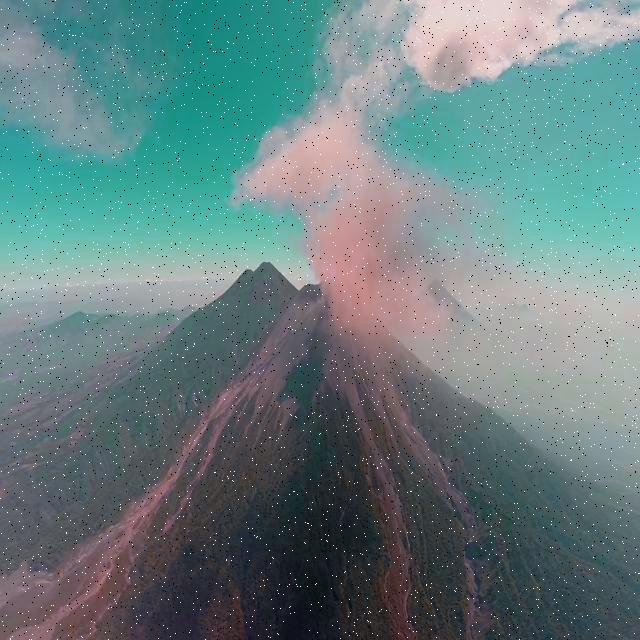Plume: (230, 100, 475, 361), (2, 1, 178, 172), (396, 1, 630, 91)
